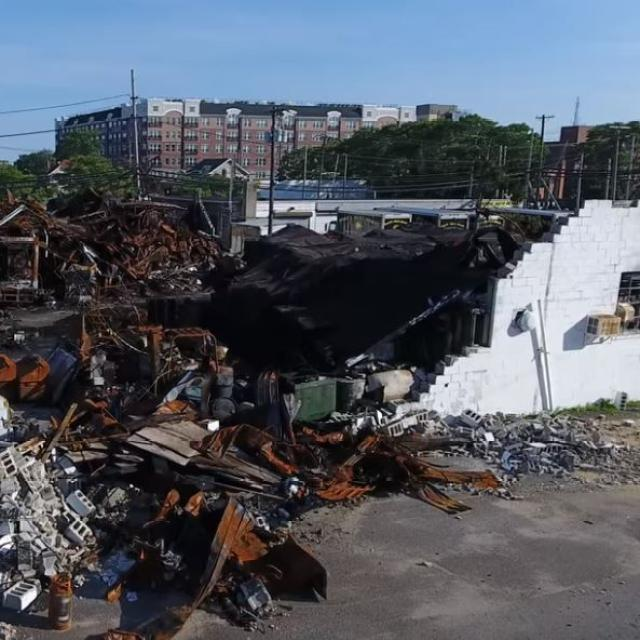collapsed_building: (0, 213, 631, 625), (0, 197, 200, 293)
